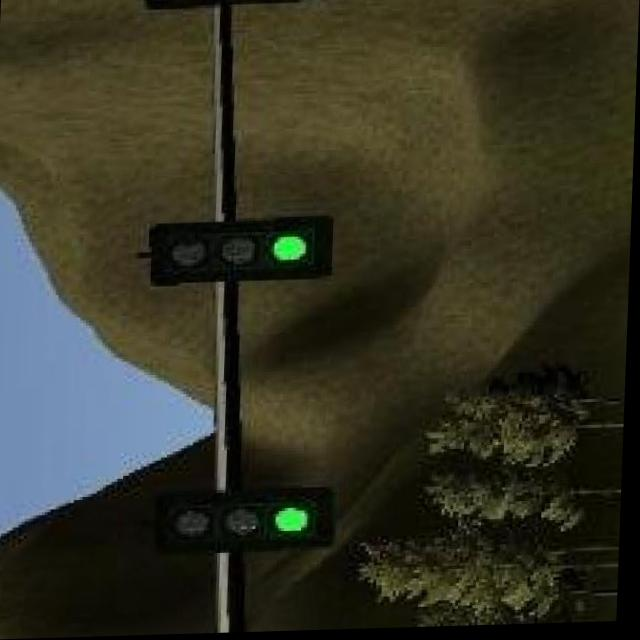green light: (155, 218, 324, 285), (158, 495, 333, 559)
